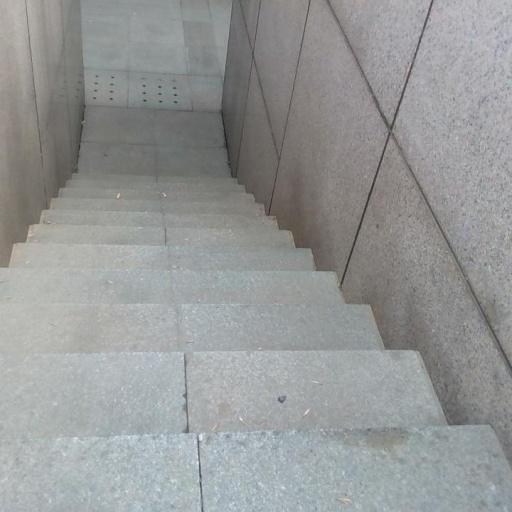stairs: (0, 108, 511, 511)
